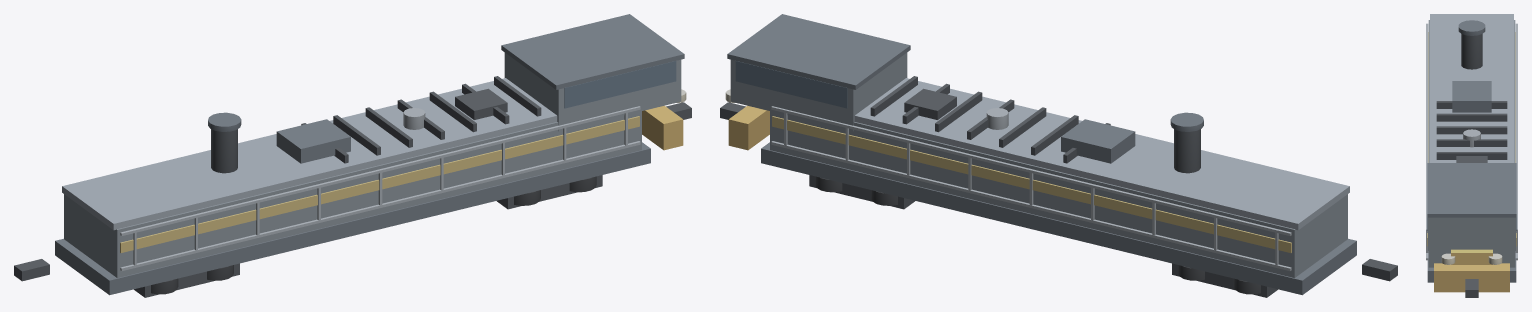
The model's file is loco.glb.
3 views of the same model, side by side, from view 1: azimuth 30°, elevation 25°; view 2: azimuth 150°, elevation 25°; view 3: azimuth 270°, elevation 25° (orthographic). The views are drawn at different scales.
Parts seen in each view (by area): view 1: loco; view 2: loco; view 3: loco.
Part boxes in pixels (x1,y1,x2,y2): loco: (14, 14, 691, 297); loco: (720, 14, 1397, 297); loco: (1426, 14, 1517, 297).
Size of the model in its own units: 24 by 4.74 by 3.51.
